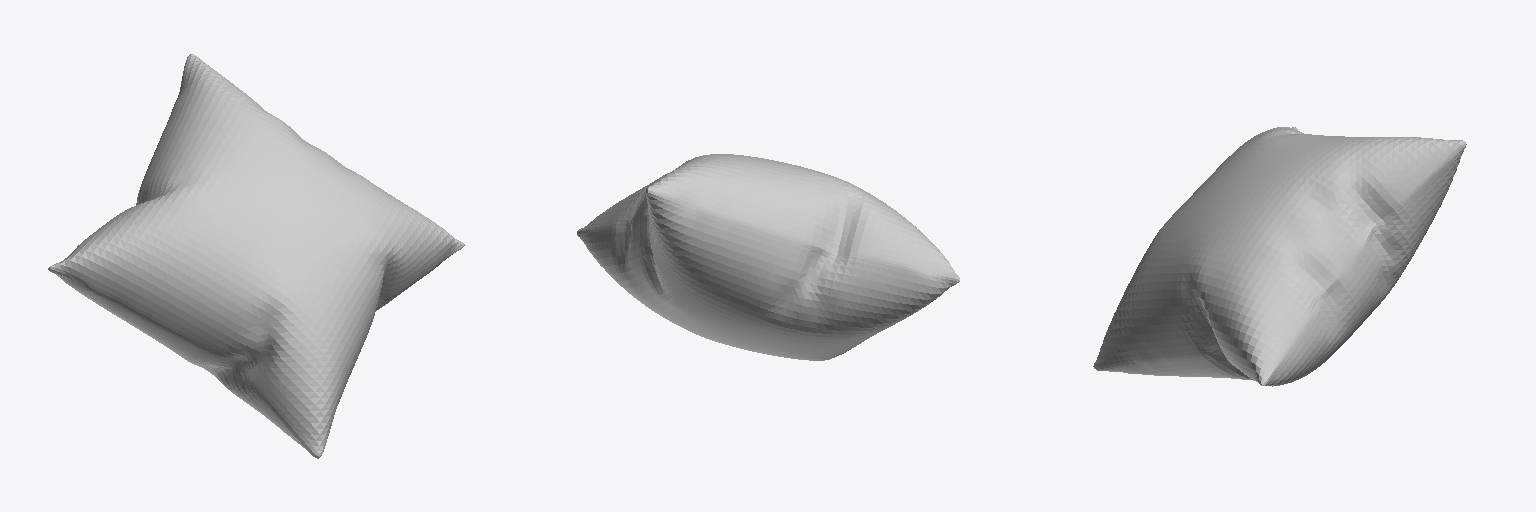
File: pillow4.obj
3 views of the same model, side by side, from view 1: azimuth 30°, elevation 25°; view 2: azimuth 150°, elevation 25°; view 3: azimuth 270°, elevation 25° (orthographic).
Visible parts, largest first — view 1: Plane.003; view 2: Plane.003; view 3: Plane.003.
Part boxes in pixels (x1,y1,x2,y2): Plane.003: (48, 54, 464, 458); Plane.003: (577, 154, 959, 360); Plane.003: (1093, 127, 1466, 386).
Size of the model in its own units: 0.4826 by 0.2963 by 0.3898.